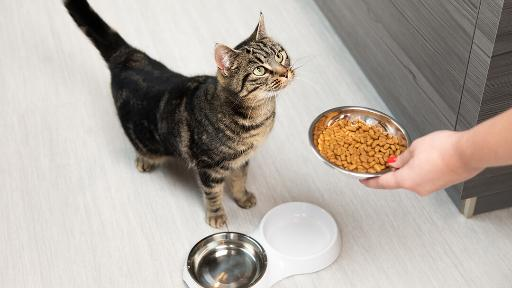cat_eating: (64, 0, 294, 227), (183, 202, 341, 288), (309, 106, 411, 179)
